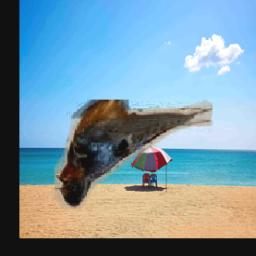Swallow: (55, 101, 213, 209)
